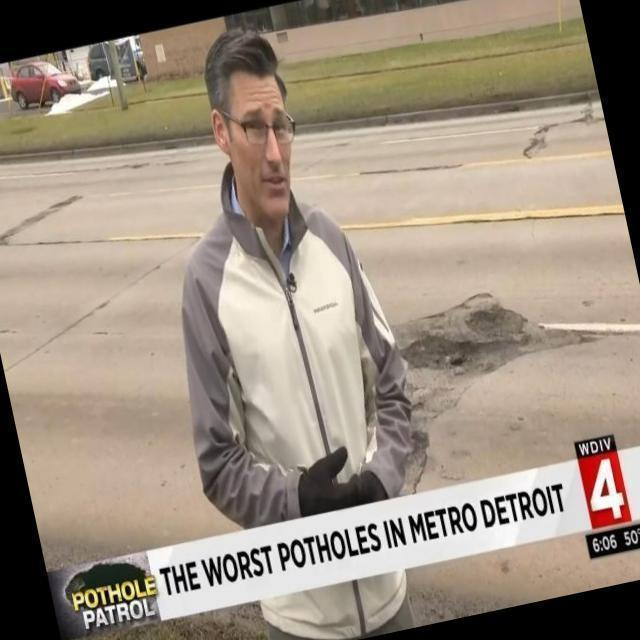pothole: (395, 292, 591, 447)
